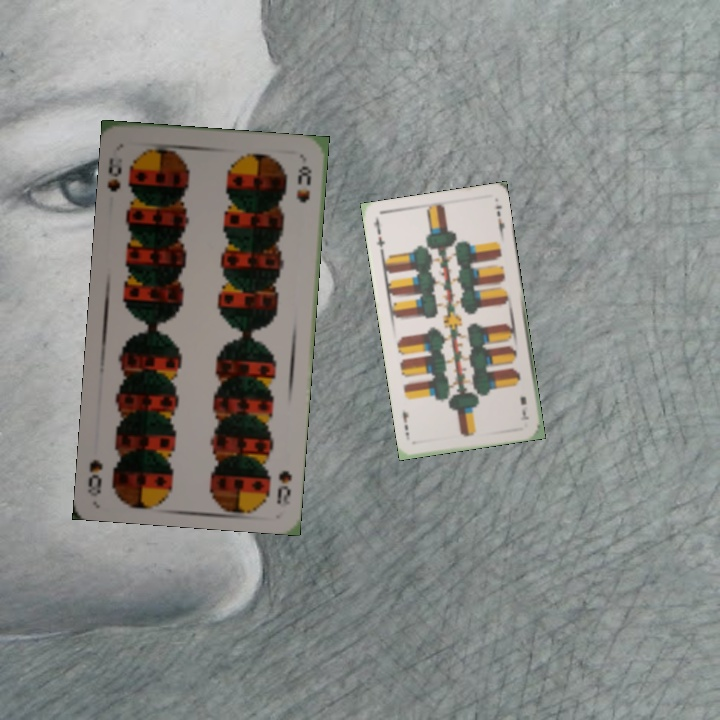E7: (370, 216, 387, 256), (516, 392, 531, 423)
S8: (273, 466, 295, 508), (104, 153, 124, 195)
